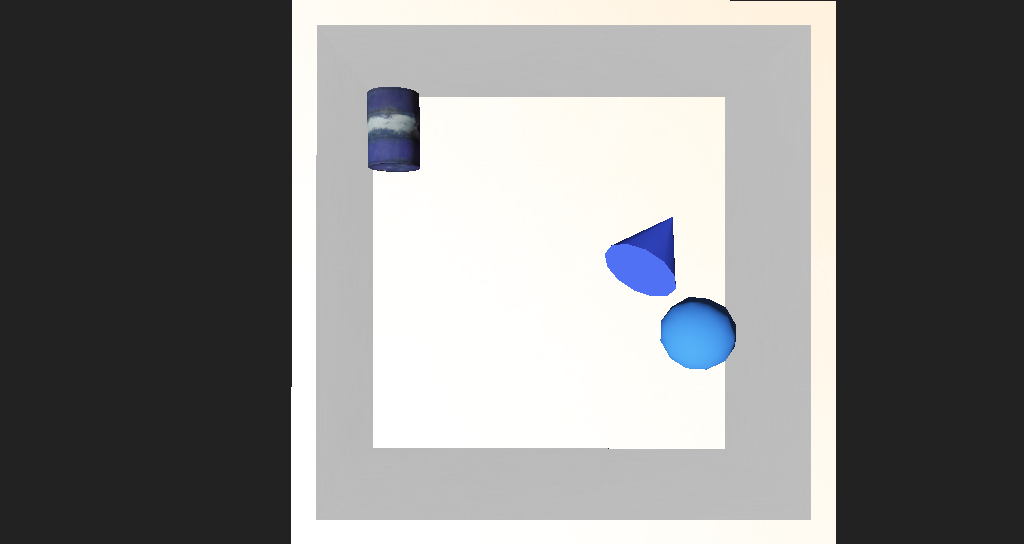cone: (344, 157, 397, 205)
cylinder: (542, 210, 657, 286)
sphere: (603, 284, 664, 327)
